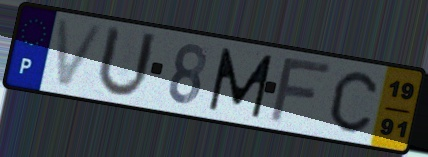8: (165, 42, 209, 107)
C: (327, 69, 380, 136)
F: (266, 57, 336, 126)
M: (206, 45, 276, 121)
U: (93, 22, 159, 101)
V: (53, 15, 109, 91)
